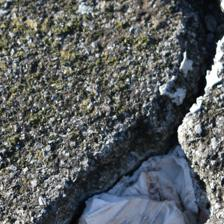Crack: (146, 3, 220, 146), (55, 149, 174, 223)
